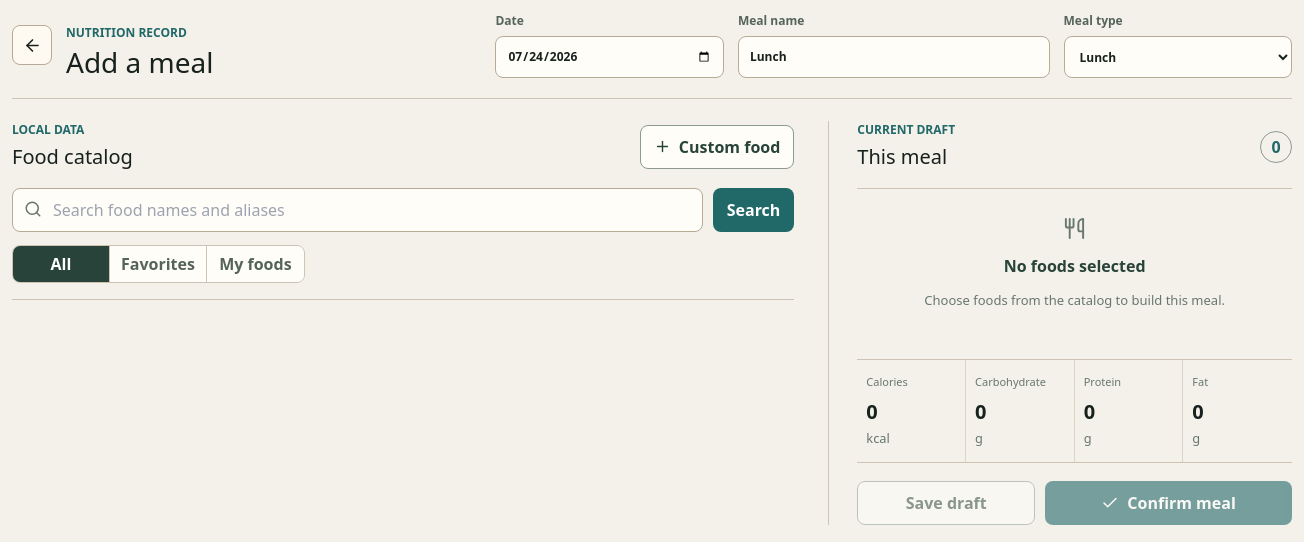
Test: MealEntry › shows catalog nutrition and requires an explicit positive amount
The width and height of the screenshot is (1304, 542).
Type "rice & oats" into the field named "Search foods". click: (357, 210)
box: [12,188,703,232]
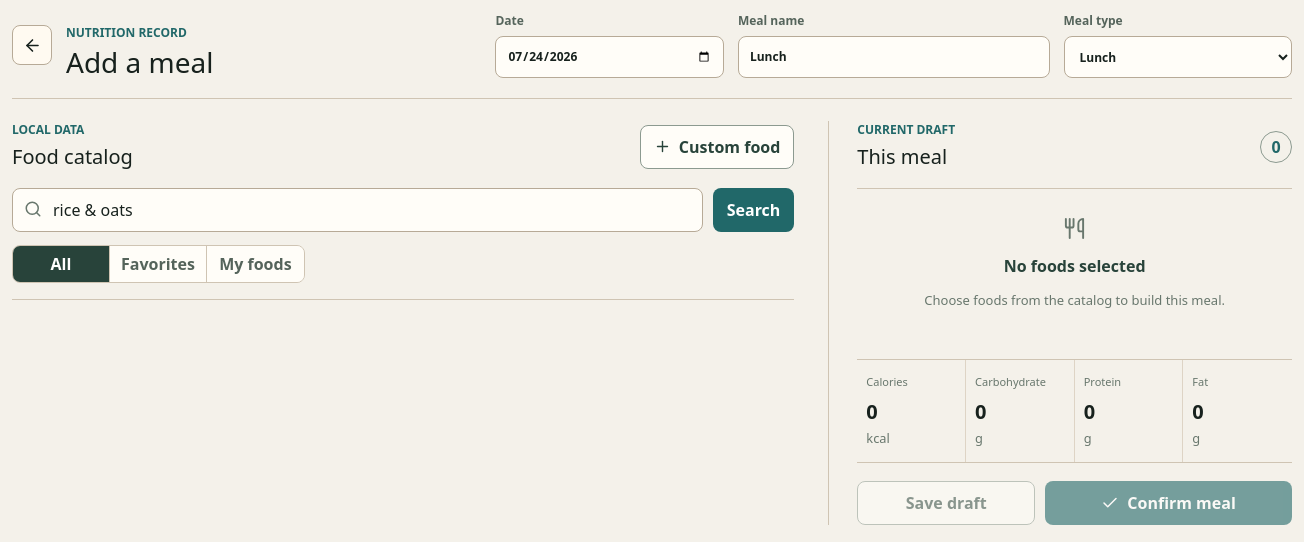
Click the button "Search". click: (754, 210)
box: [713,188,794,232]
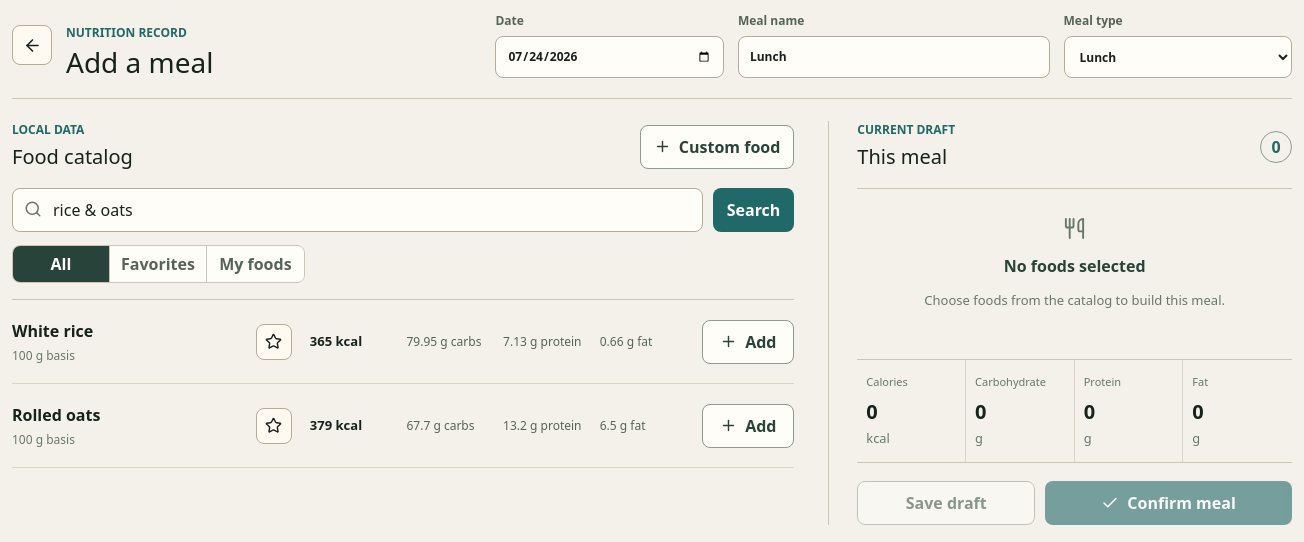
Expected: the text "White rice" is shown, [12,320,93,342]
Expected: the text "365 kcal" is shown, [310,332,362,350]
Expected: the text "79.95 g carbs" is shown, [406,333,481,350]
Click the button with aria-label "Add food". click: (748, 342)
box: [702,320,794,364]
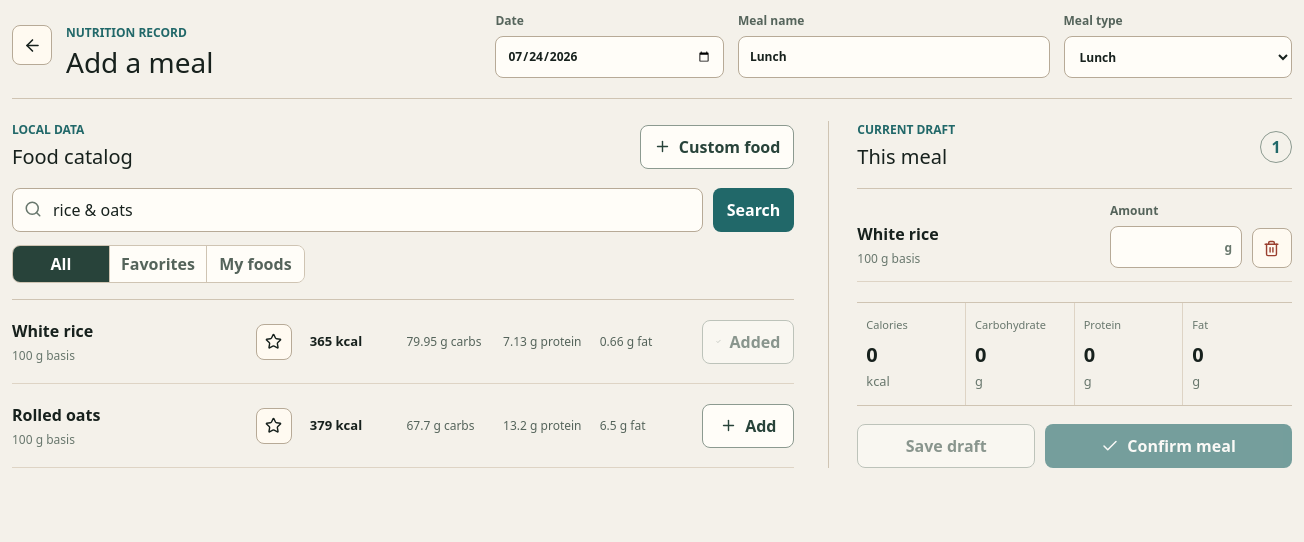
Expected: the button "Confirm meal" is disabled, [1045,424,1292,468]
Expected: the number field named "Amount for White rice" is not empty
Type "150" into the number field named "Amount for White rice". click: (1176, 247)
box: [1110,226,1242,268]
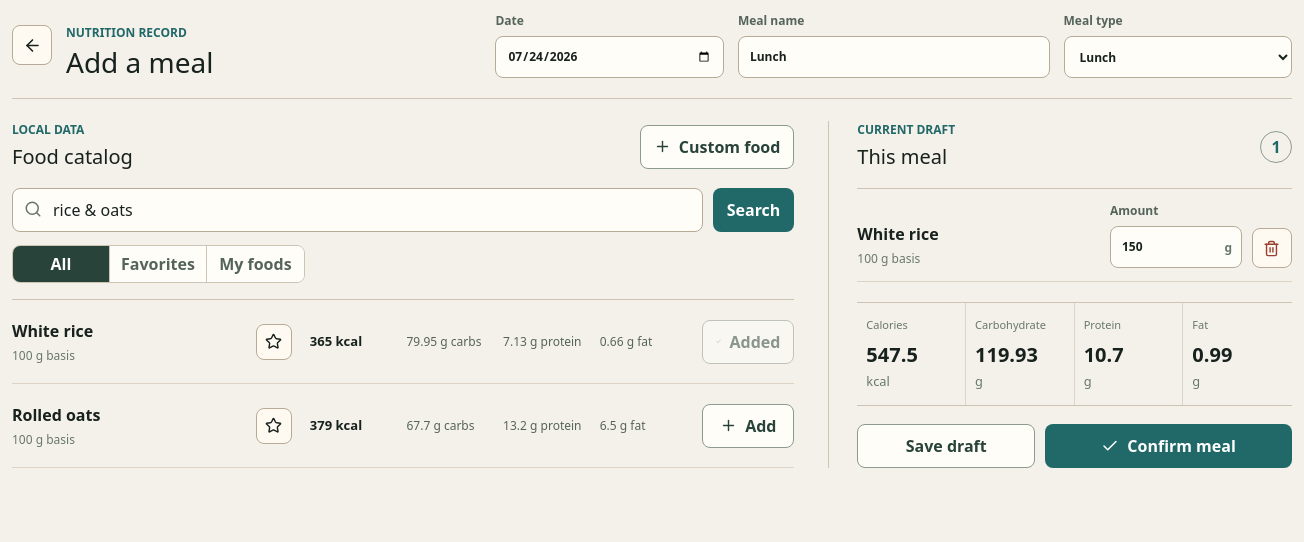
Expected: the button "Confirm meal" is enabled, [1045,424,1292,468]
